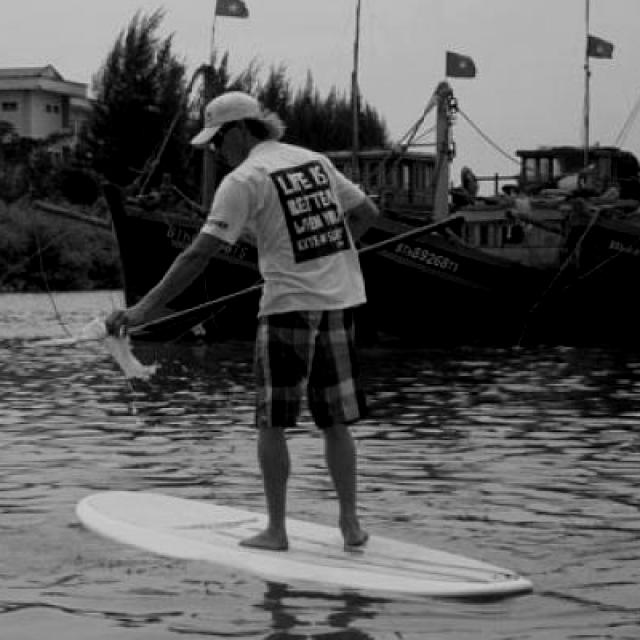ship: (112, 148, 437, 337), (358, 140, 640, 337)
